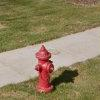Hydrant: (28, 35, 61, 100)
